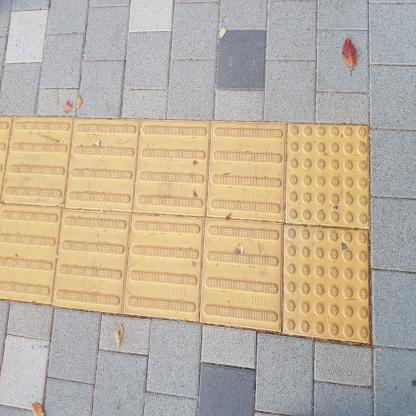podotacti: (0, 101, 381, 356)
